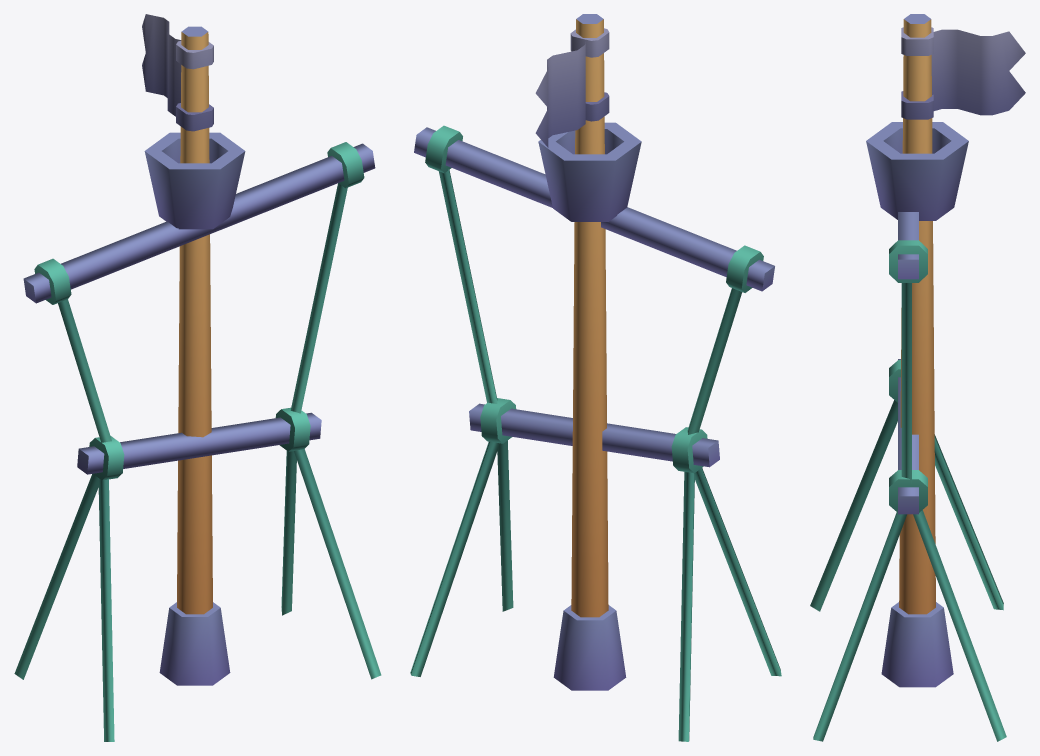
File: mast-ropes.fbx
The picture shows the model from 3 angles, left to right: view 1: azimuth 30°, elevation 25°; view 2: azimuth 150°, elevation 25°; view 3: azimuth 270°, elevation 25°; orthographic projection. The views are drawn at different scales.
Parts seen in each view (by area): view 1: mast-ropes, sail-a, flag-c; view 2: mast-ropes, sail-a, flag-c; view 3: mast-ropes, flag-c, sail-a.
Boxes of the visible parts, box(x1,y1,x2,y2) form: mast-ropes: box(14, 26, 381, 741); sail-a: box(23, 142, 375, 480); flag-c: box(142, 14, 213, 131); mast-ropes: box(410, 14, 781, 741); sail-a: box(414, 125, 774, 473); flag-c: box(535, 28, 609, 147); mast-ropes: box(810, 14, 1006, 741); flag-c: box(901, 27, 1025, 119); sail-a: box(889, 212, 927, 514).
Size of the model in its own units: 439 by 789 by 235.
